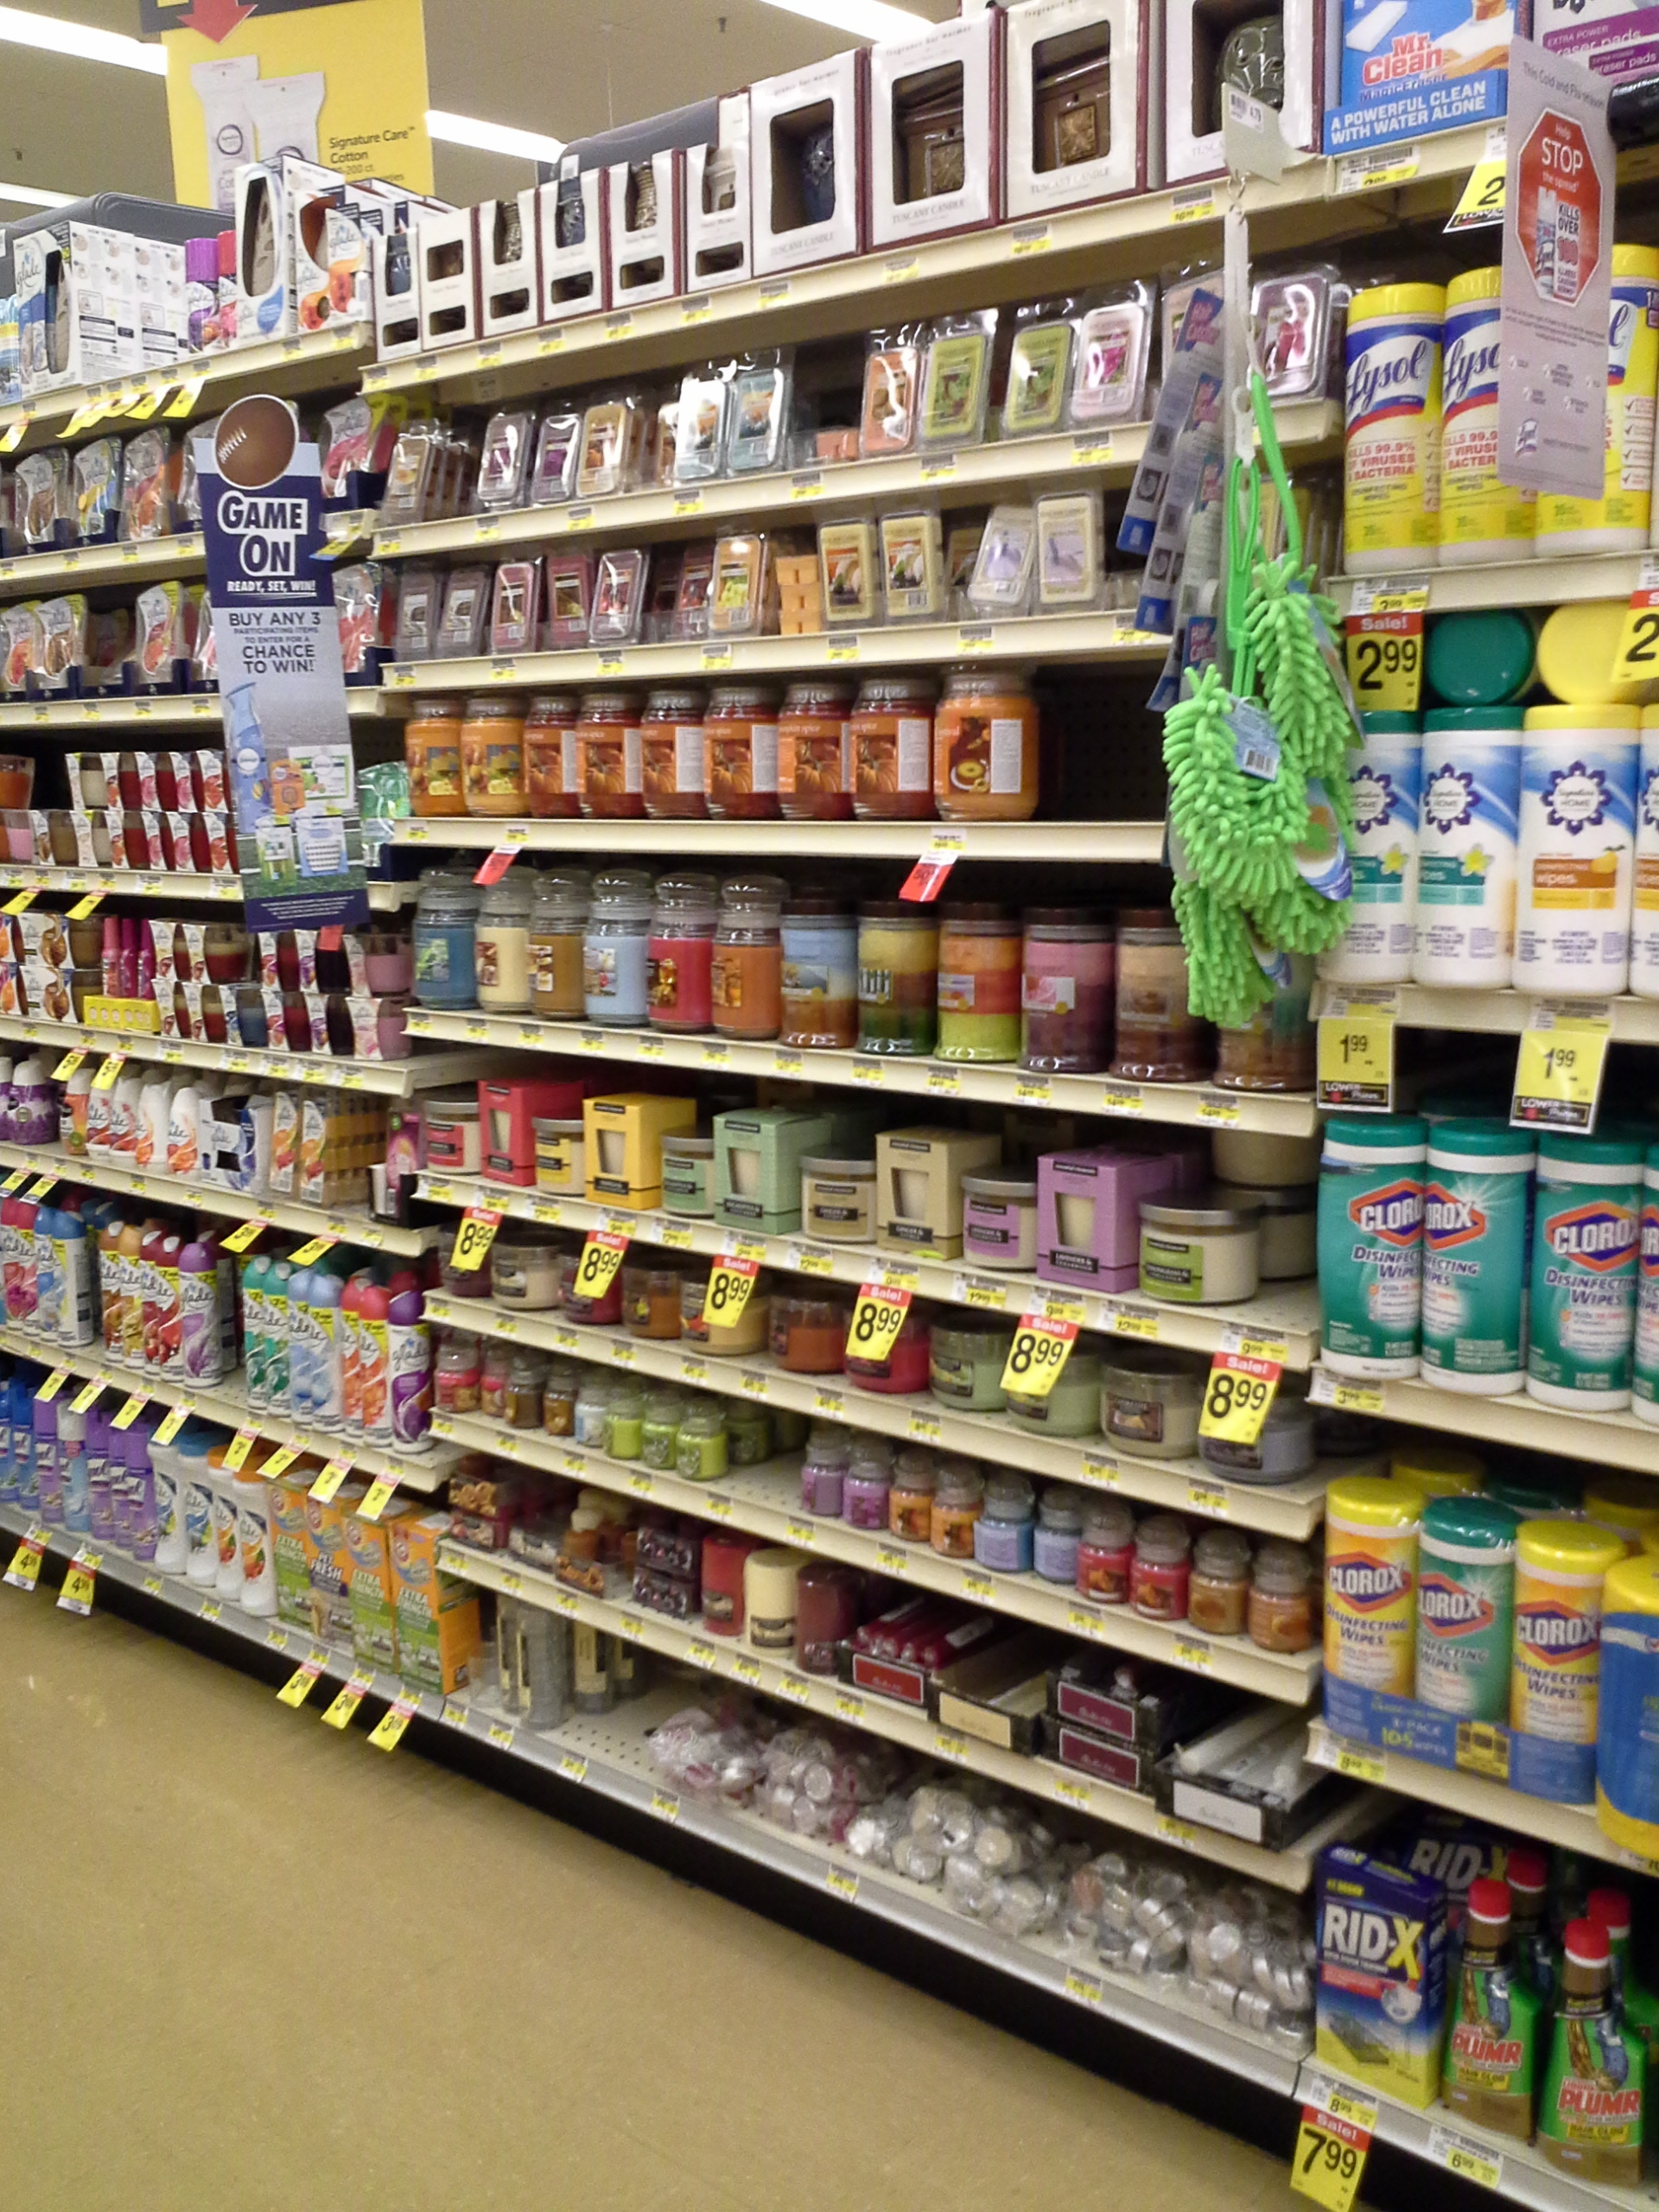Out-of-stock: (1037, 671, 1157, 857), (1230, 1137, 1328, 1334), (535, 1656, 659, 1780), (697, 1397, 807, 1515)
